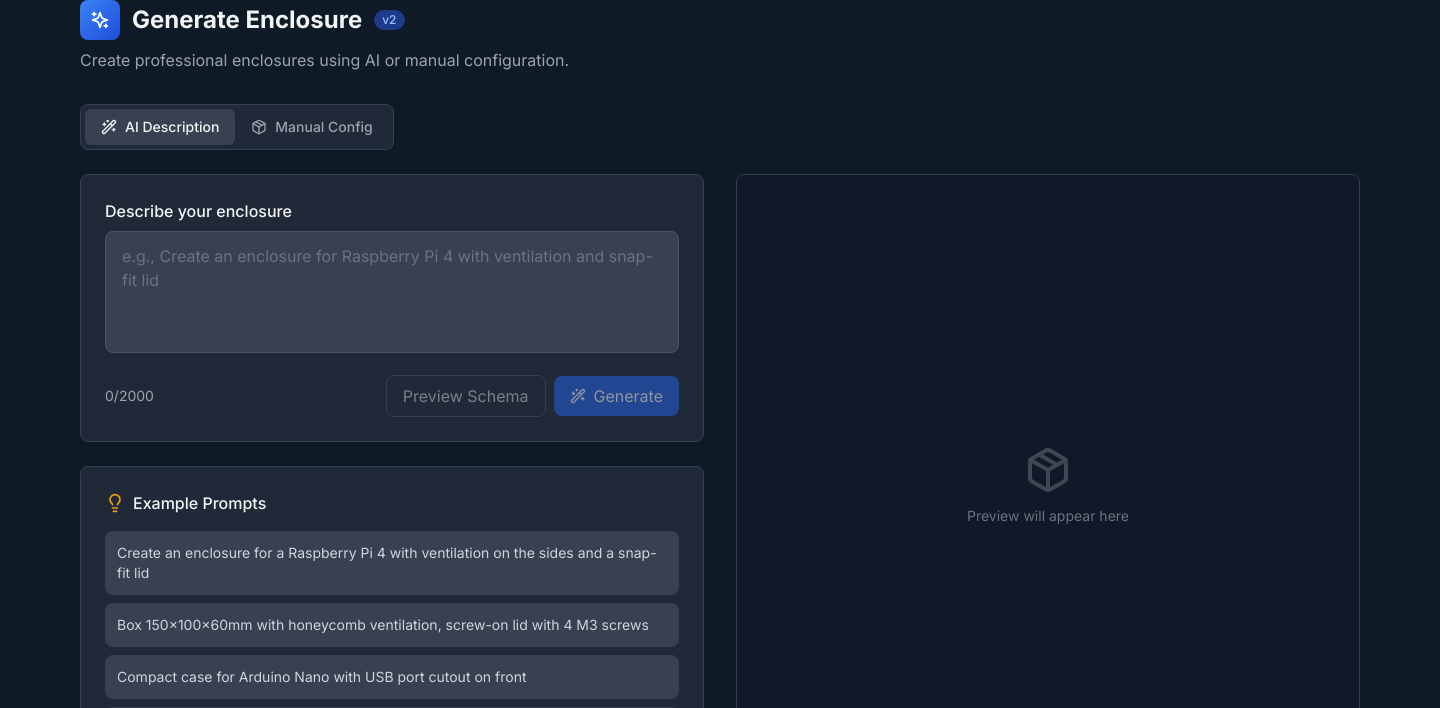
Scenario: GeneratePageV2 › should render ports and cutouts section in manual mode
Click the button "Manual Config" at coordinates (312, 127), box [235, 109, 389, 145]
(page scrolled)
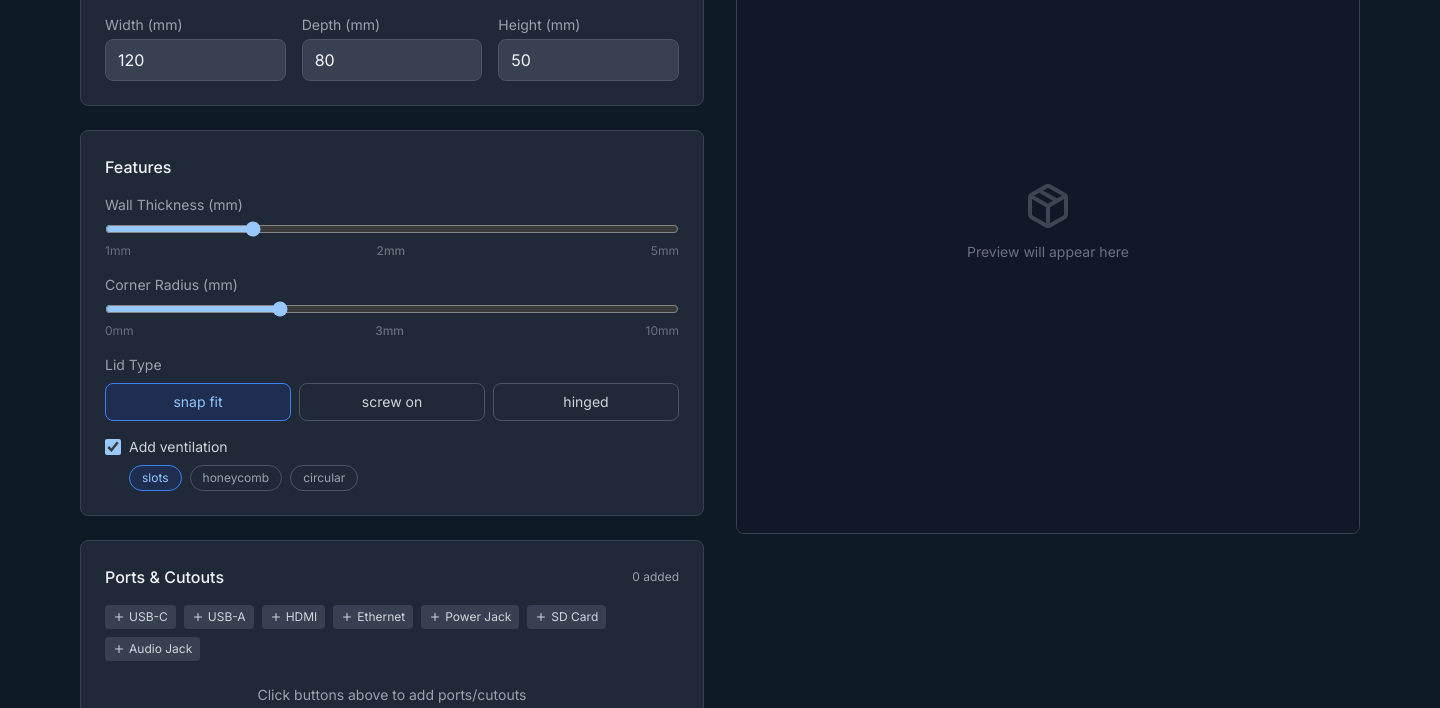
Result: the heading "Ports & Cutouts" is shown at [105, 565, 224, 589]
Result: the button "USB-C" is shown at [105, 605, 176, 629]
Result: the button "HDMI" is shown at [262, 605, 325, 629]
